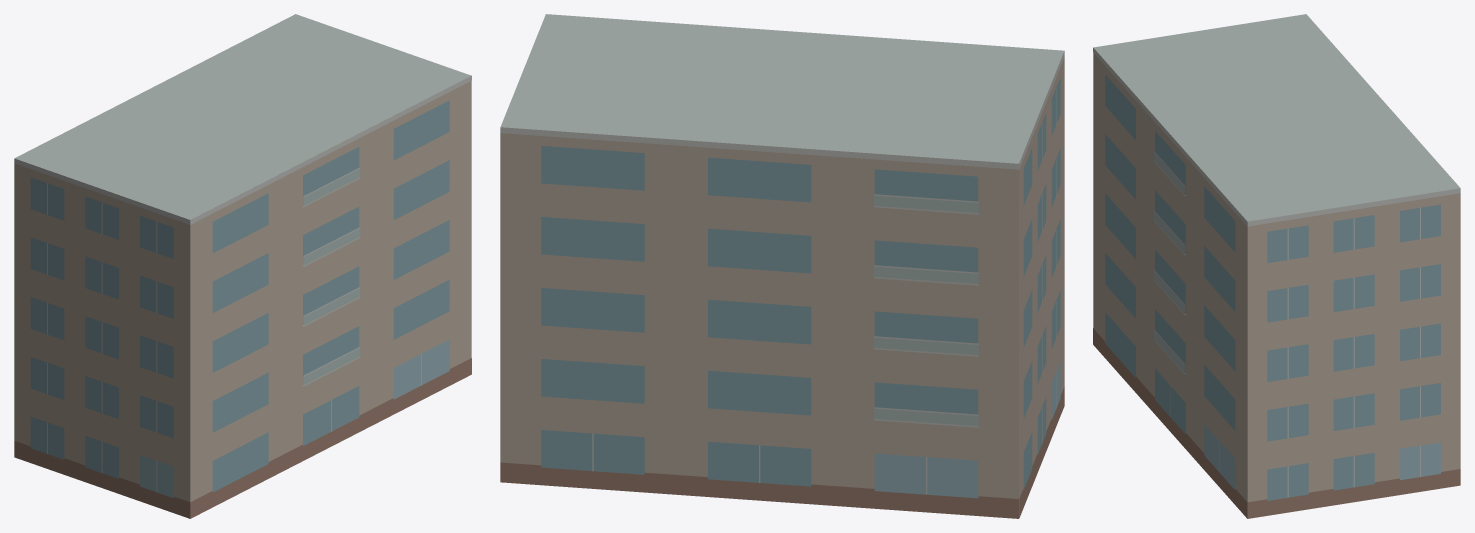
Rendered from survey-upis-33013281.glb.
3 renders of one model, left to right at view 1: azimuth 30°, elevation 25°; view 2: azimuth 150°, elevation 25°; view 3: azimuth 270°, elevation 25°, orthographic. The views are drawn at different scales.
Visible parts, largest first — view 1: survey-upis-33013281.tmp; view 2: survey-upis-33013281.tmp; view 3: survey-upis-33013281.tmp.
Boxes of the visible parts, x1,y1,x2,y2 form: survey-upis-33013281.tmp: (14,14,471,518); survey-upis-33013281.tmp: (500,14,1064,518); survey-upis-33013281.tmp: (1093,14,1460,518).
Size of the model in its own units: 22.18 by 14.8 by 16.59.
